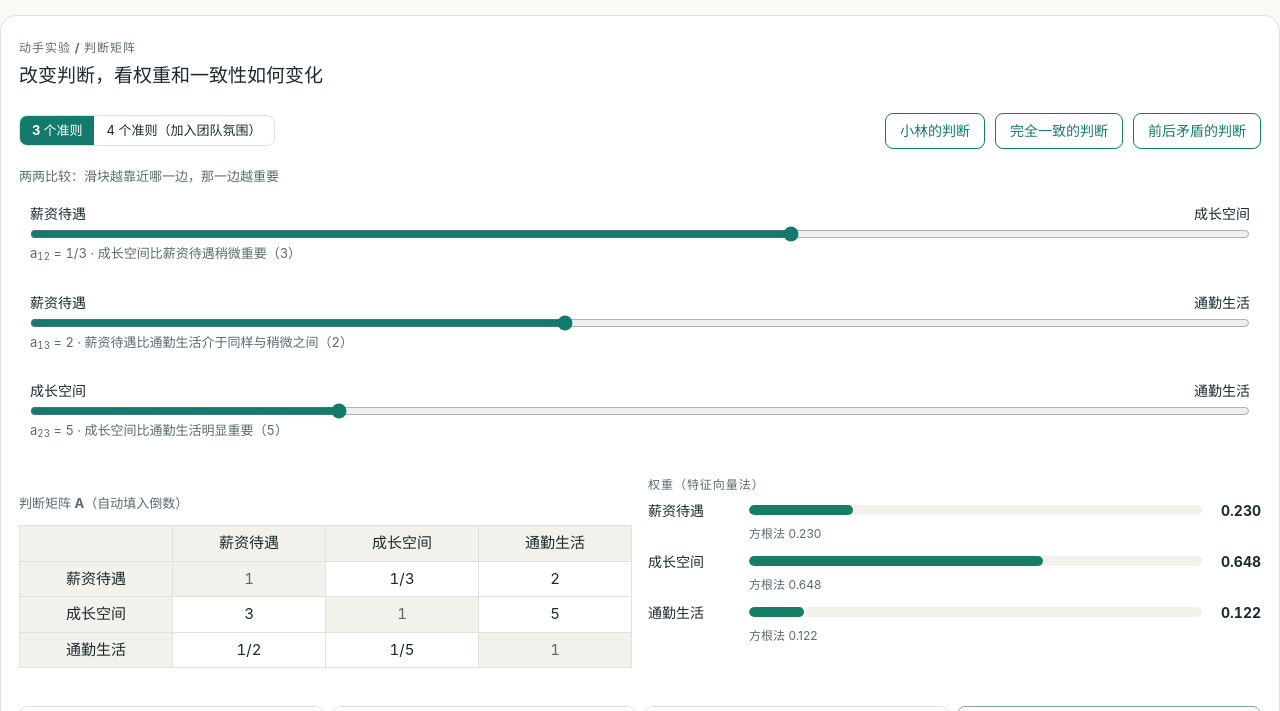
Test: 判断矩阵实验 › recomputes weights, CR and the ranking from any new judgment (no canned numbers)
The image size is (1280, 711).
Set the slider labelled "薪资待遇 成长空间" to "-8" at (38, 234), box [30,226,1250,242]
(page scrolled)
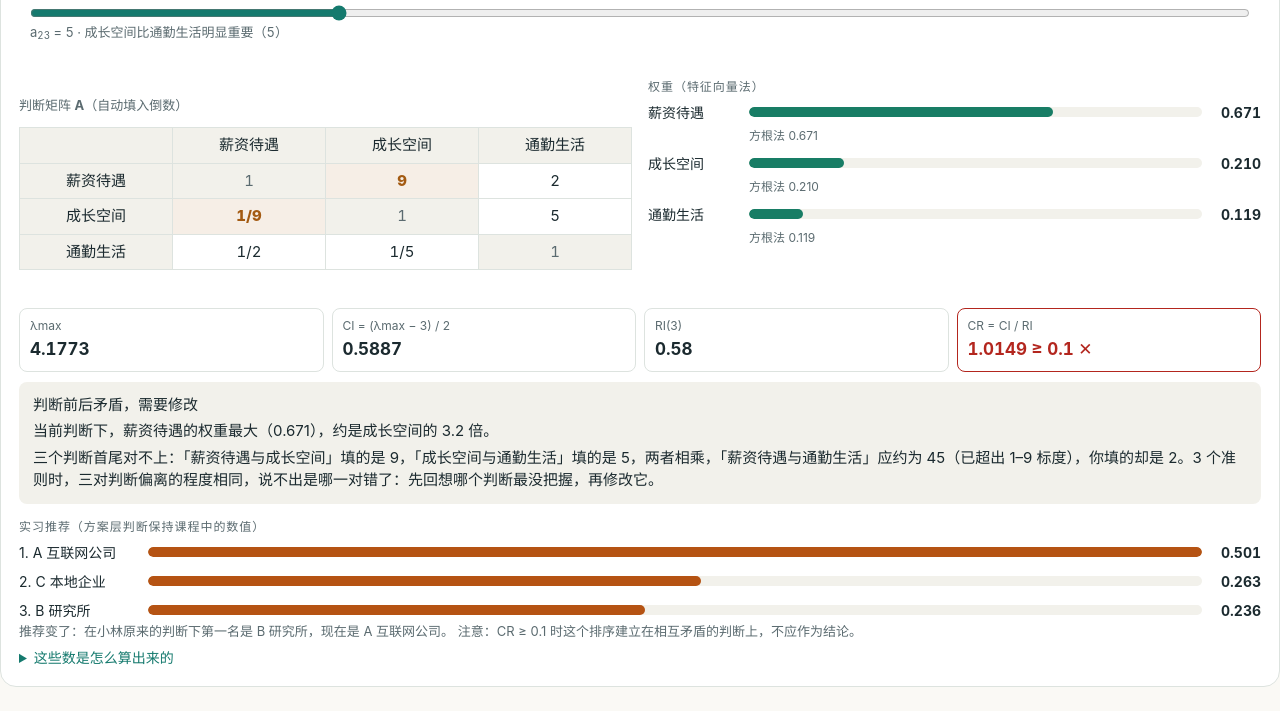
Result: the table shows "1/9" at [236,206,262,225]
Result: the text "判断前后矛盾，需要修改" is shown at [33,394,198,414]
Result: the text "三个判断首尾对不上" shows "应约为 45（已超出 1–9 标度），你填的却是 2" at [33,446,1247,492]
